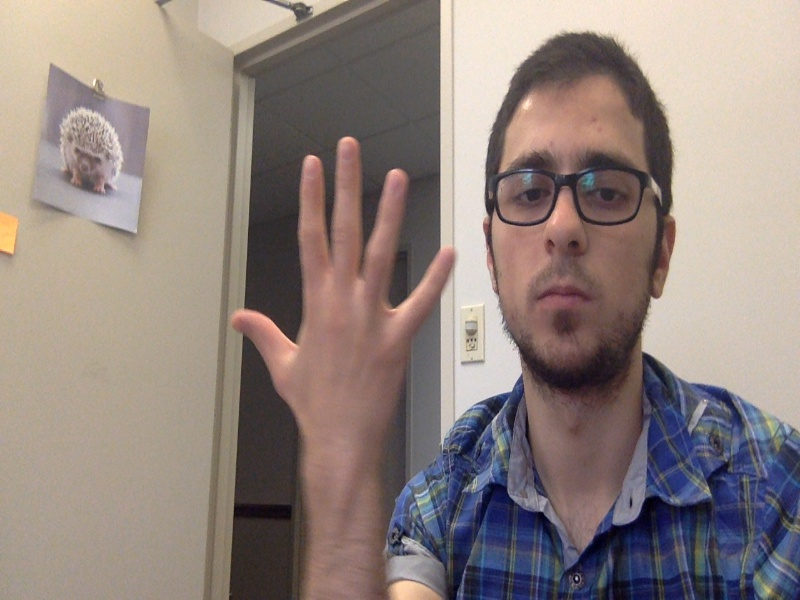5-hand: (232, 134, 457, 434)
